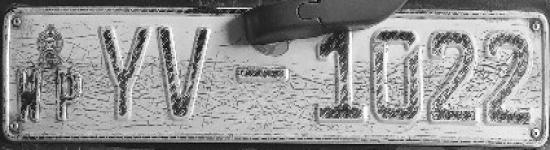-: (233, 56, 296, 98)
0: (369, 22, 425, 129)
1: (309, 25, 368, 131)
2: (424, 25, 480, 128), (483, 24, 534, 130)
P: (48, 63, 87, 128)
V: (152, 20, 216, 125)
W: (15, 62, 48, 128)
Y: (92, 20, 154, 126)
